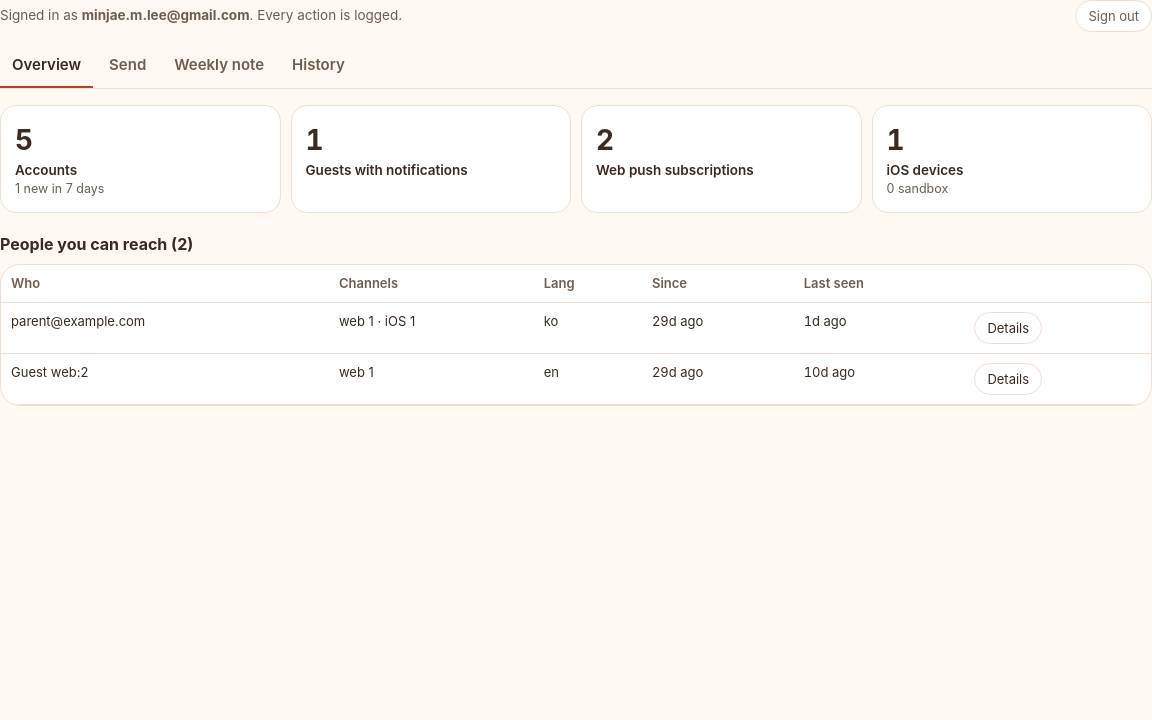
it: AdminScreen › dry run carries no idempotency key and says nothing was sent
Click the tab with test id "tab-send" at (128, 66), box [97, 44, 158, 88]
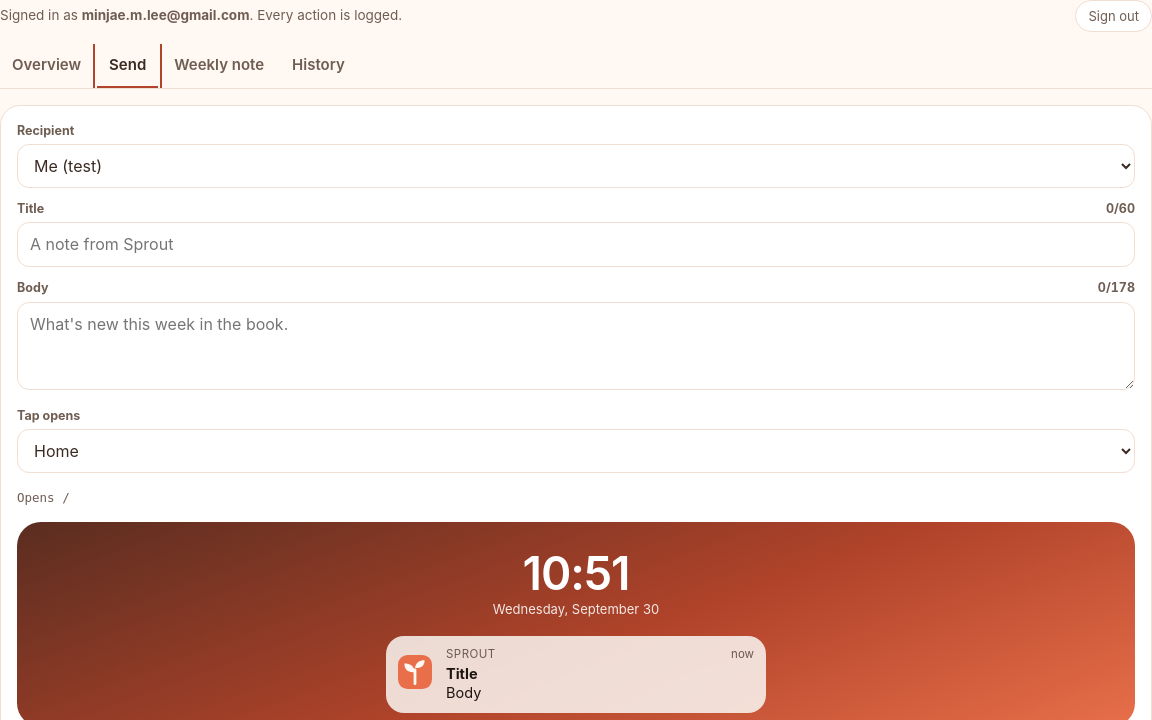
Type "Hi" into the field with test id "admin-title" at (576, 245), box [17, 222, 1135, 268]
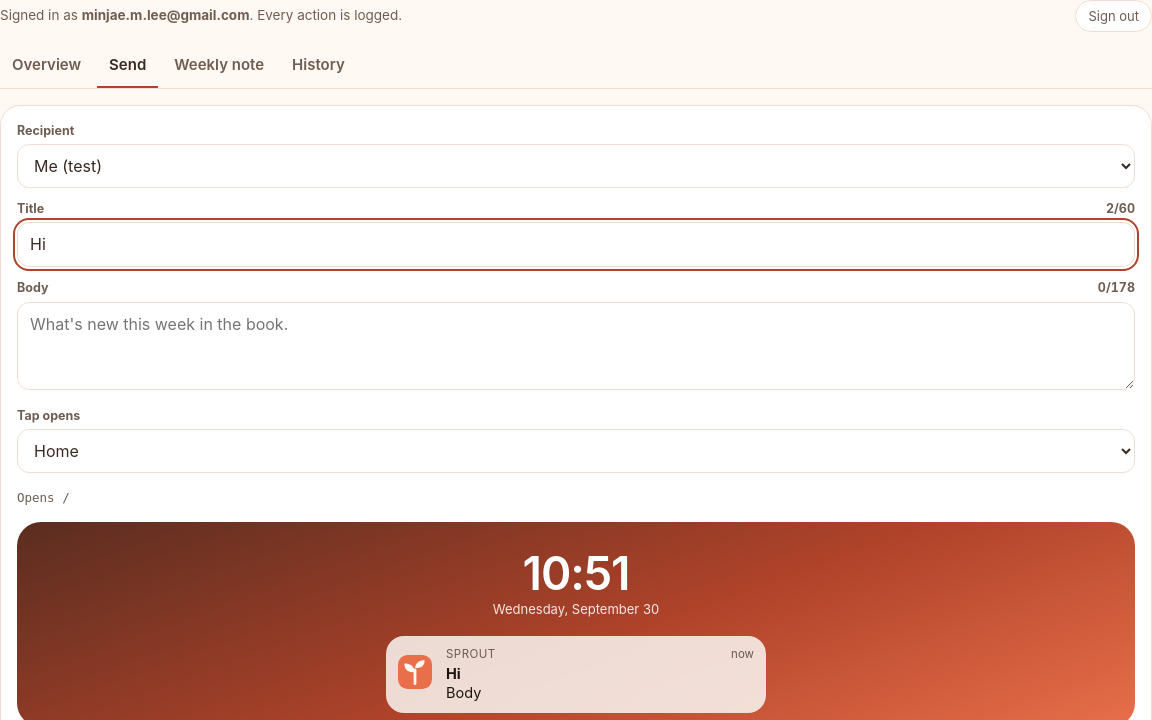
Type "There" into the text box with test id "admin-body" at (576, 346), box [17, 302, 1135, 390]
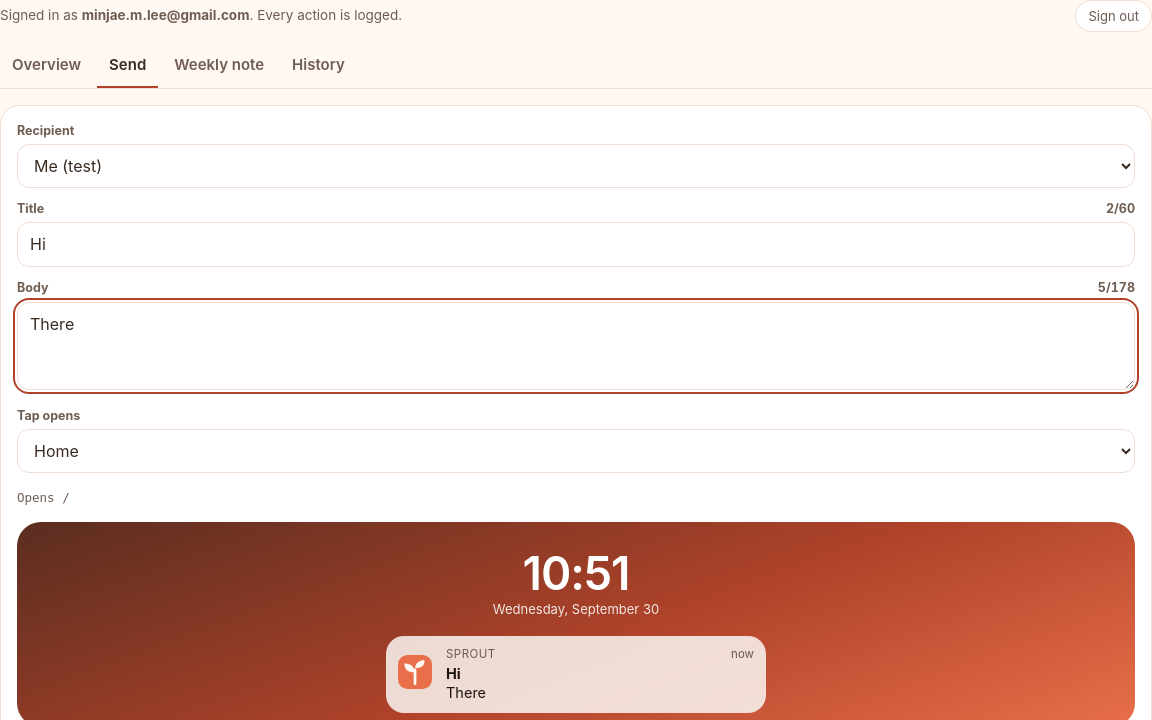
Select "Safety for month…" in the dropdown with test id "admin-link" at (576, 451), box [17, 429, 1135, 473]
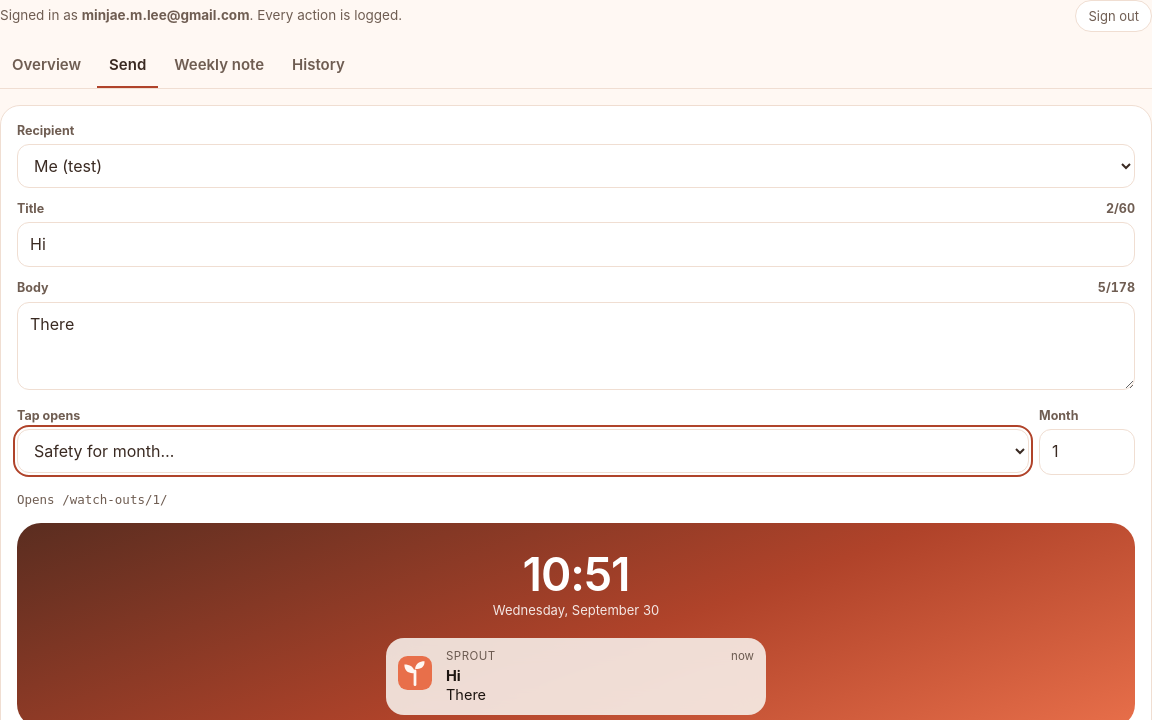
Replace the text in the field with test id "admin-link-month" with "17" at (1087, 452), box [1039, 429, 1135, 475]
(page scrolled)
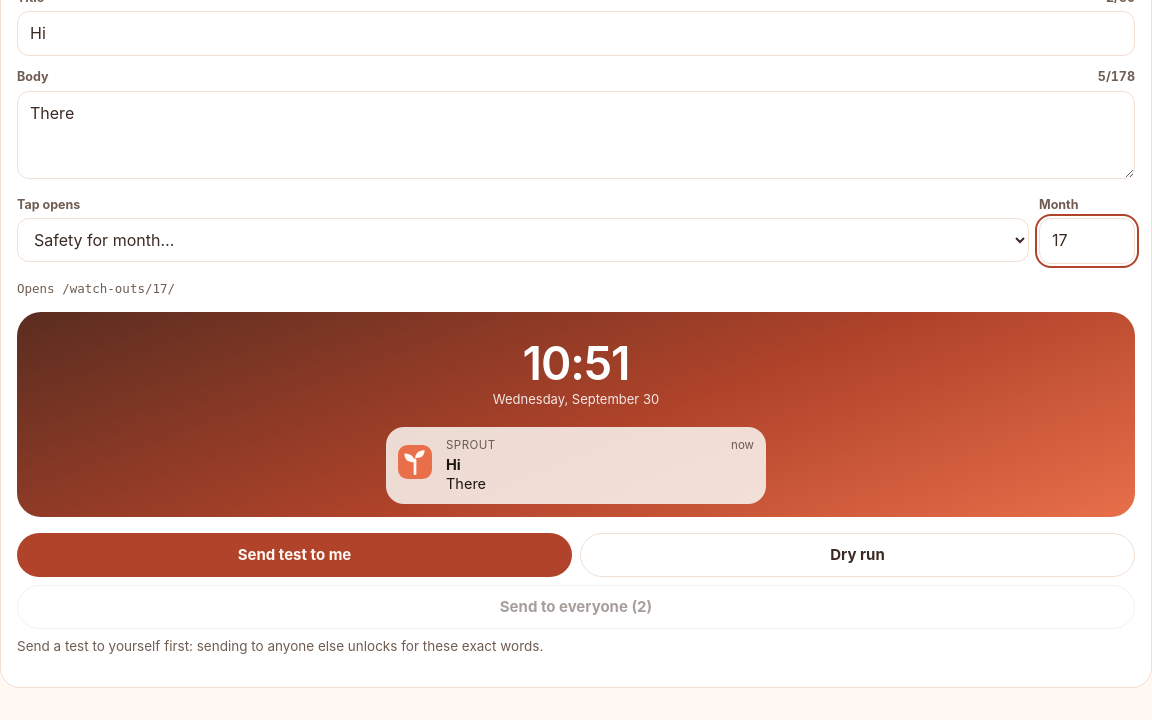
Expected: the text with test id "admin-link-value" shows "/watch-outs/17/", [62, 281, 175, 296]
Click the button with test id "admin-dry-run" at (858, 555), box [580, 533, 1135, 577]
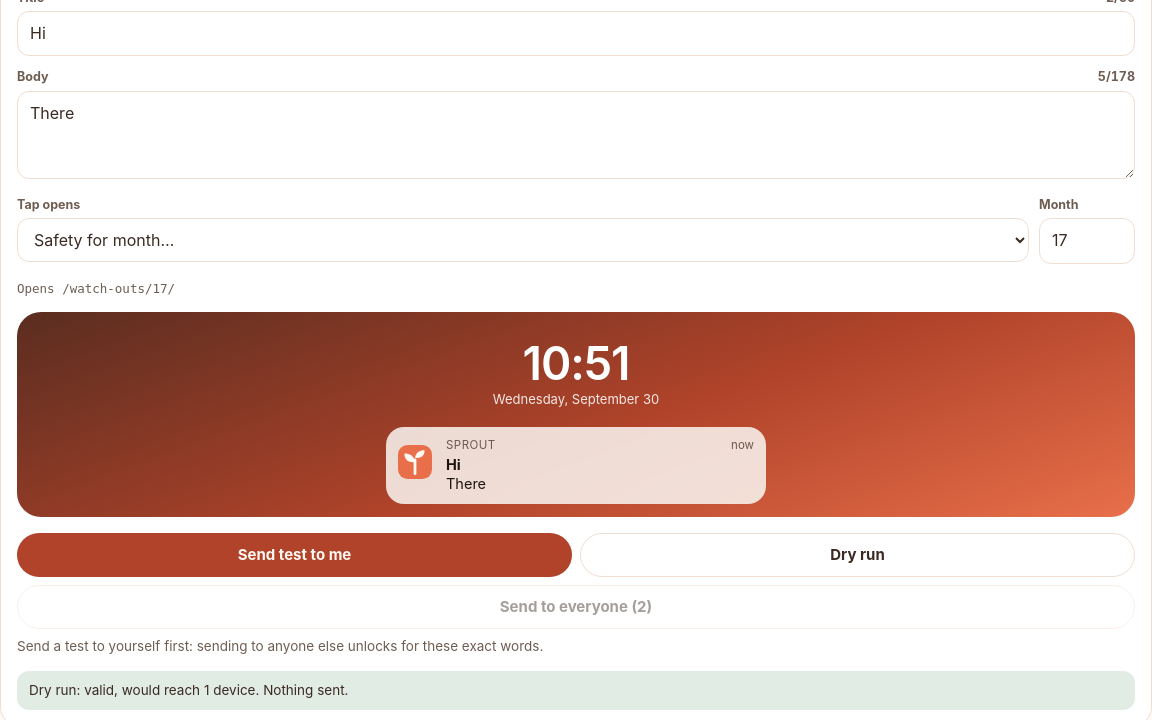
Expected: the message with test id "admin-result" shows "Nothing sent", [29, 682, 348, 698]
